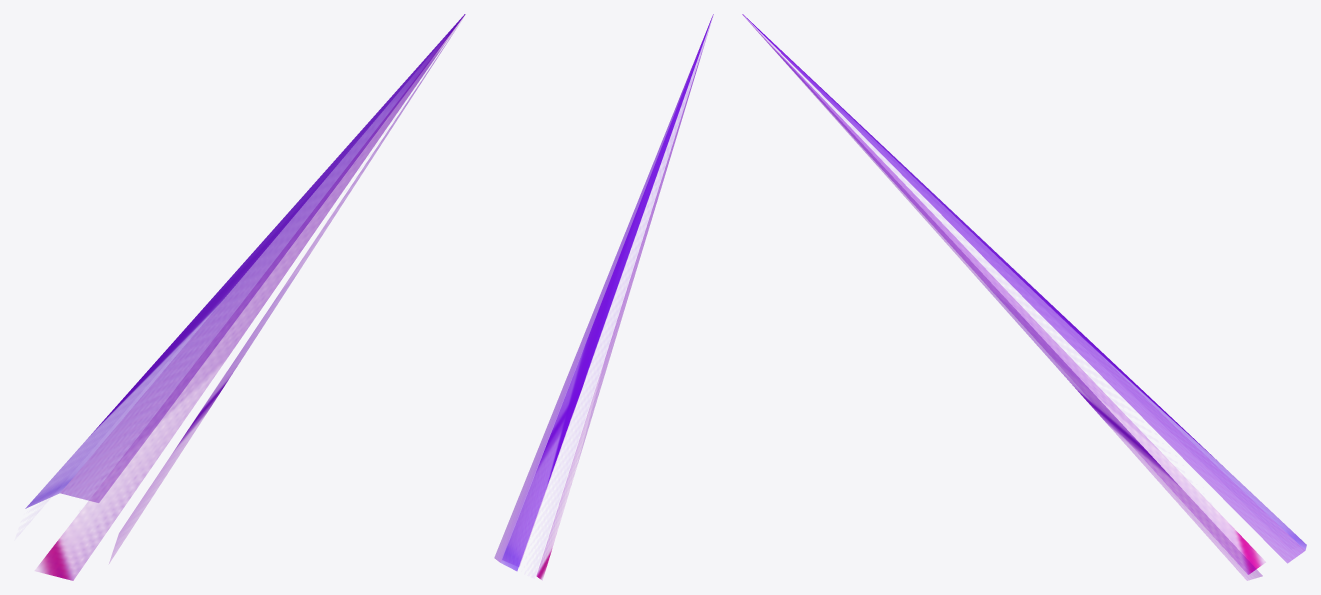
Rendered from beamR3.glb.
3 views of the same model, side by side, from view 1: azimuth 30°, elevation 25°; view 2: azimuth 150°, elevation 25°; view 3: azimuth 270°, elevation 25° (orthographic). The views are drawn at different scales.
Visible parts, largest first — view 1: 柱体.036; view 2: 柱体.036; view 3: 柱体.036.
Boxes of the visible parts, <box> form: 柱体.036: <box>25,14,465,580</box>; 柱体.036: <box>494,14,713,579</box>; 柱体.036: <box>742,14,1306,580</box>.
Size of the model in its own units: 2.75 by 25.86 by 23.3.
Materials: 1 (1 with a texture image).
